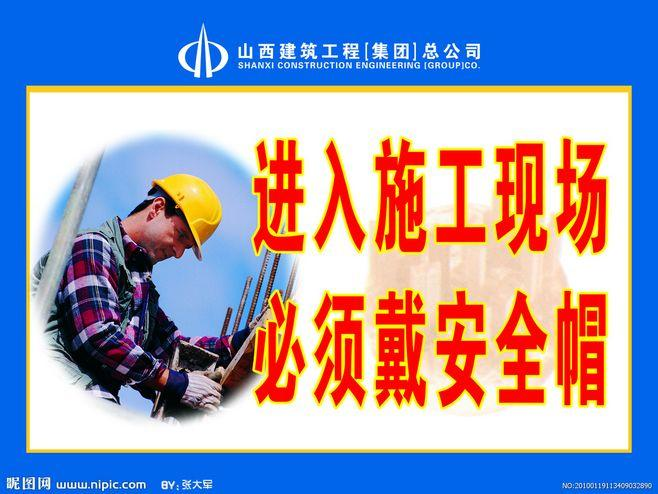helmet: (152, 176, 222, 261)
